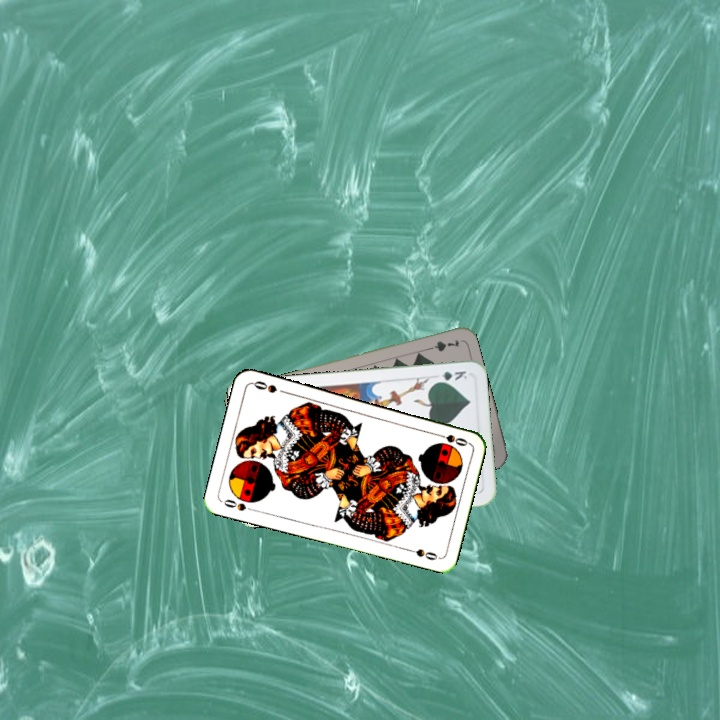G7: (421, 335, 462, 354)
GK: (431, 367, 470, 385)
SO: (431, 429, 470, 449), (218, 495, 258, 514)
